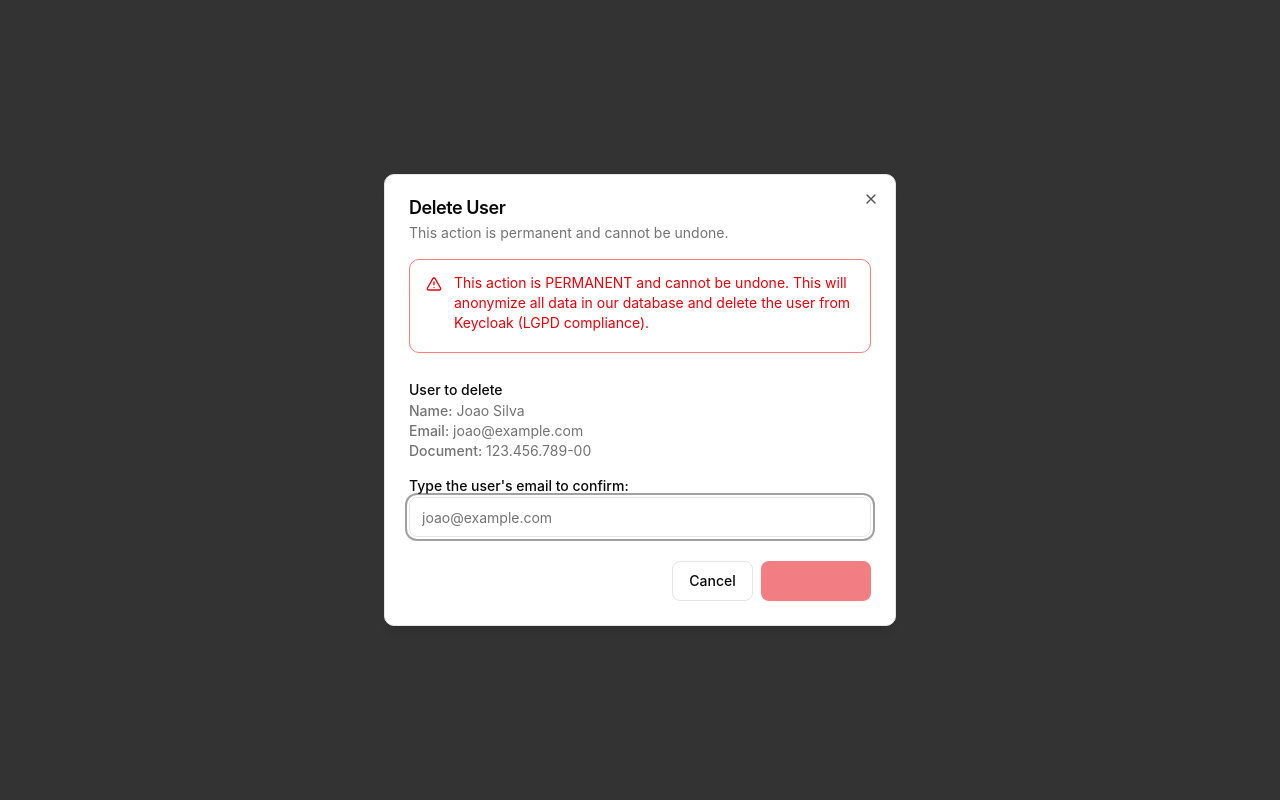
Scenario: DeleteDialog › confirm button disabled when email does not match
Expected: the button with test id "confirm-delete-button" is disabled, [761,561,871,601]
// Type wrong email
Type "wrong@email.com" into the field with test id "email-confirm-input" at (640, 517), box [409,497,871,537]
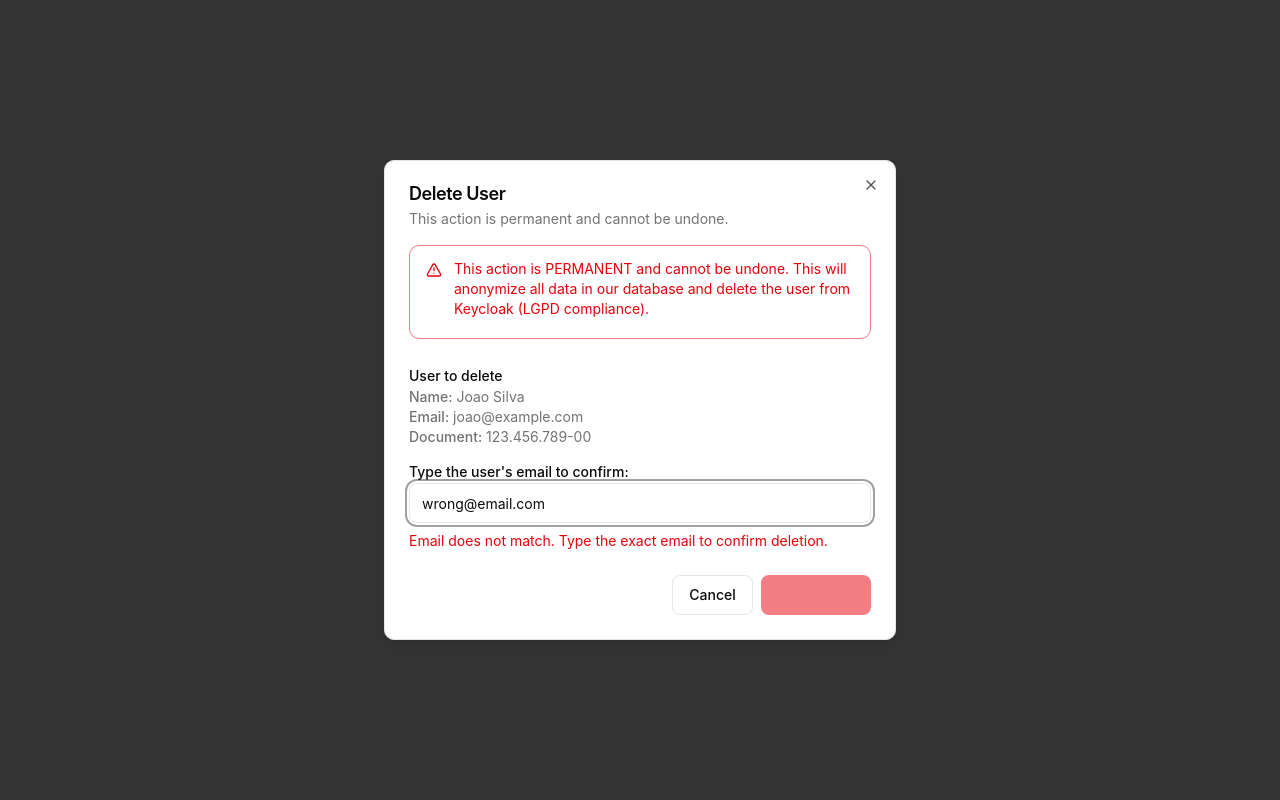
Expected: the button with test id "confirm-delete-button" is disabled, [761,575,871,615]
Expected: the text with test id "email-mismatch-error" is shown, [409,531,871,551]
